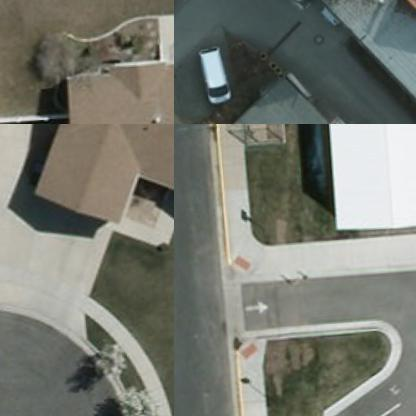car: (196, 44, 232, 102)
